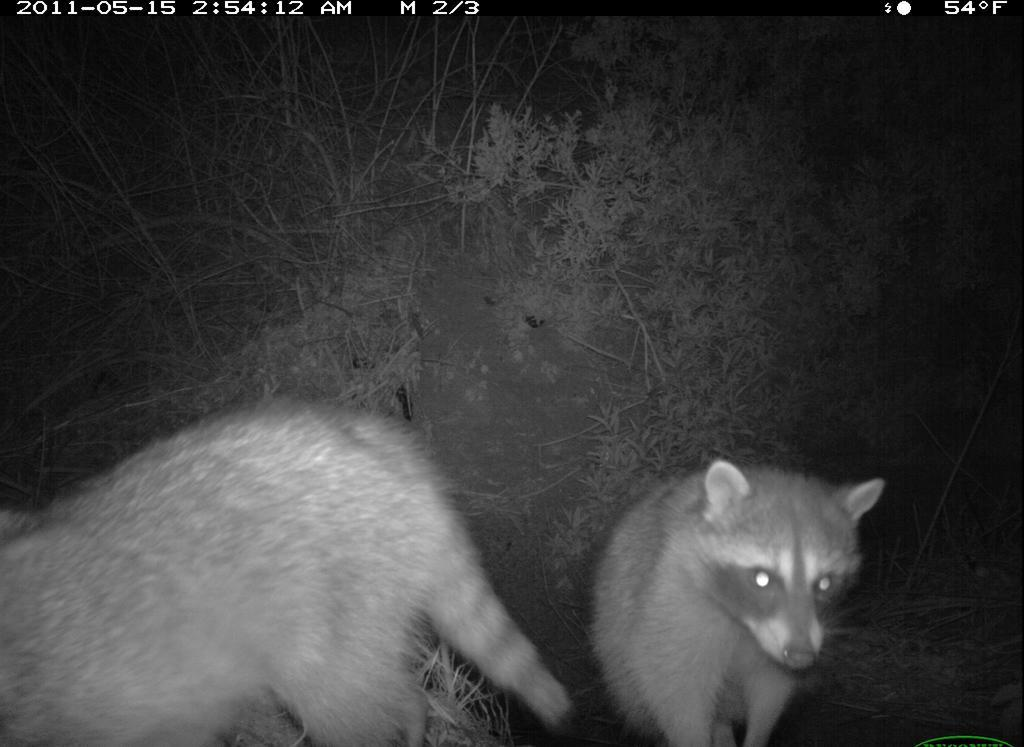raccoon: (7, 361, 587, 747), (591, 447, 899, 747)
